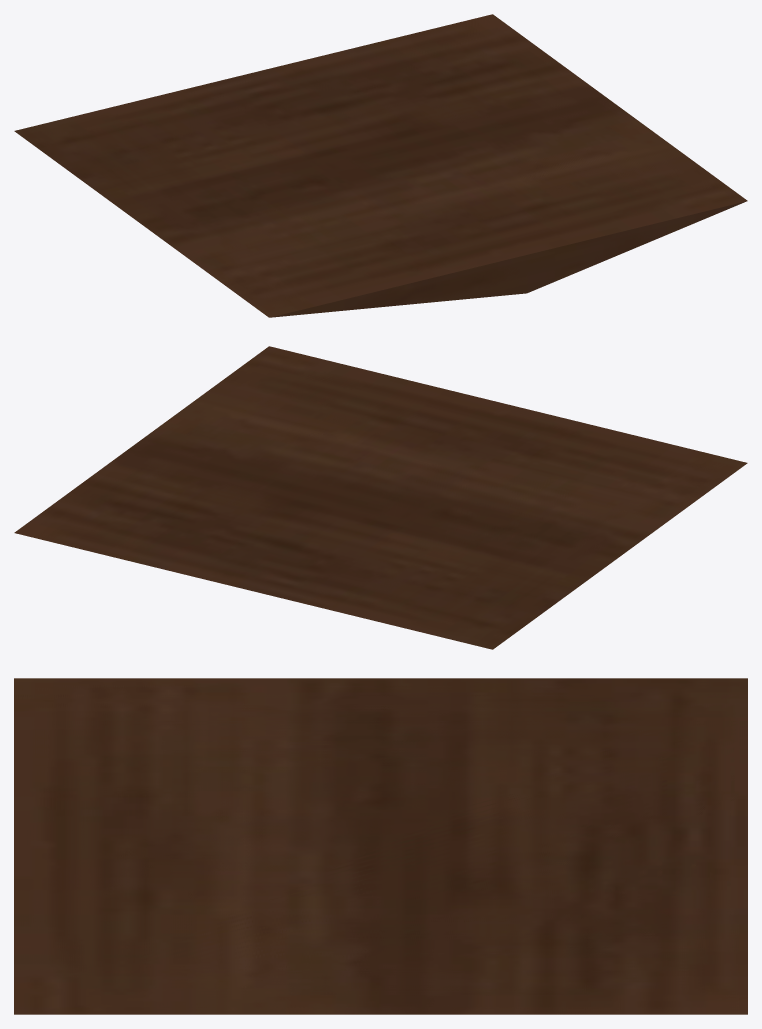
File: link_8__top_panel-26.glb
The picture shows the model from 3 angles, top to bottom: view 1: azimuth 30°, elevation 25°; view 2: azimuth 150°, elevation 25°; view 3: azimuth 270°, elevation 25°; orthographic projection. The views are drawn at different scales.
Parts seen in each view (by area): view 1: geometry_0; view 2: geometry_0; view 3: geometry_0.
Part boxes in pixels (<box>): geometry_0: <box>14,14,747,317</box>; geometry_0: <box>14,346,747,649</box>; geometry_0: <box>14,678,747,1014</box>.
Size of the model in its own units: 0.1365 by 0.0105 by 0.126.
Materials: 1 (1 with a texture image).
